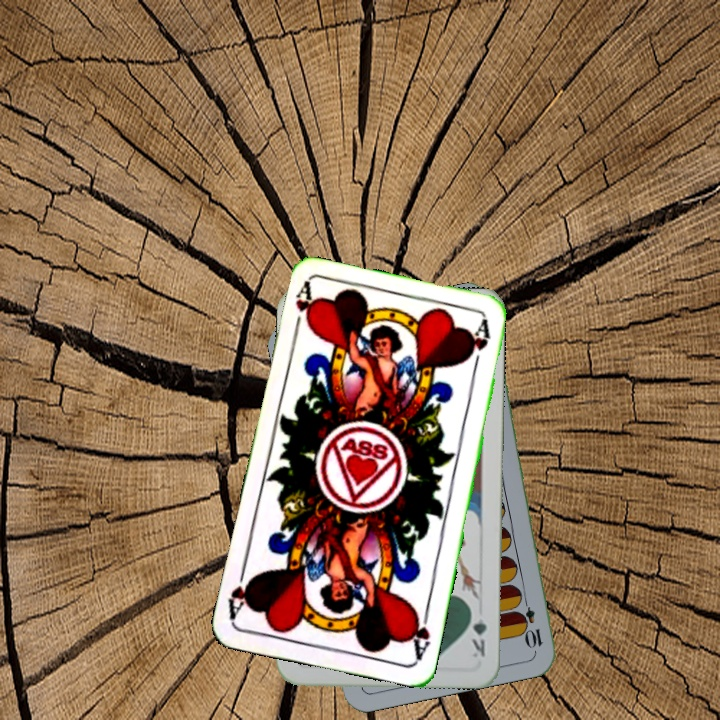E10: (517, 592, 545, 651)
GK: (467, 603, 490, 660)
HA: (405, 602, 433, 662), (289, 280, 315, 339)
